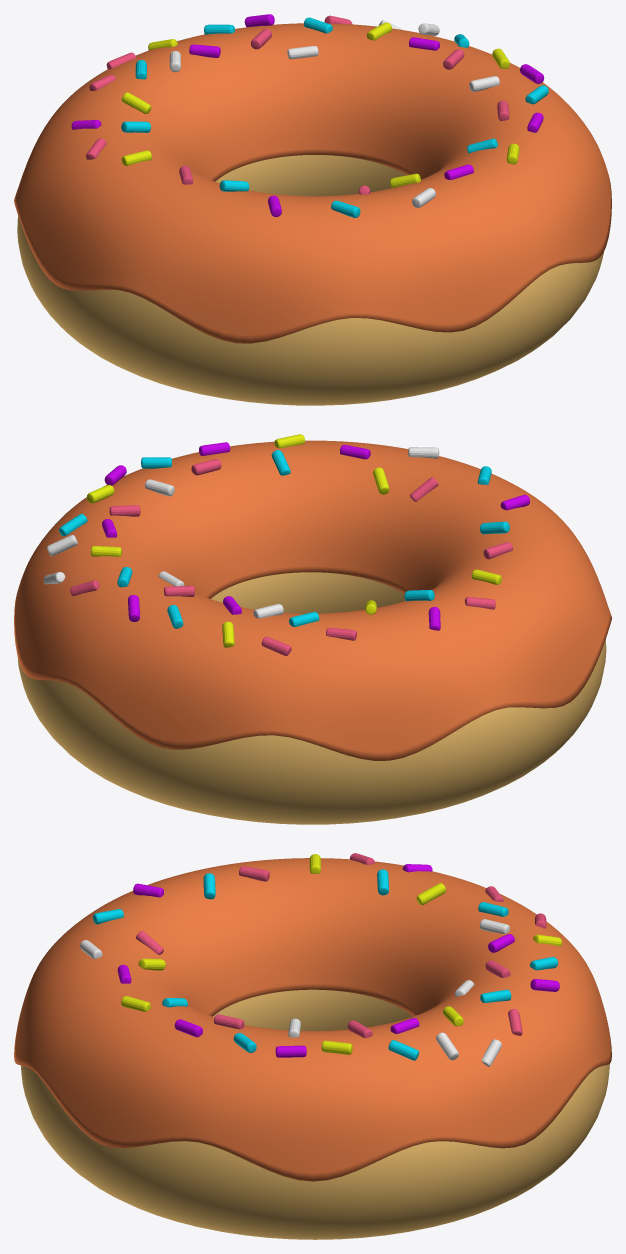
The model's file is donut.fbx.
3 renders of one model, top to bottom at view 1: azimuth 30°, elevation 25°; view 2: azimuth 150°, elevation 25°; view 3: azimuth 270°, elevation 25°, orthographic.
Visible parts, largest first — view 1: choco, donut; view 2: choco, donut; view 3: choco, donut.
Part boxes in pixels (left/top/right/bottom): choco: left=14, top=23, right=611, bottom=343; donut: left=17, top=155, right=604, bottom=405; choco: left=14, top=440, right=611, bottom=760; donut: left=17, top=572, right=606, bottom=824; choco: left=14, top=858, right=611, bottom=1181; donut: left=21, top=989, right=609, bottom=1239.
Size of the model in its own units: 285 by 107 by 285.
